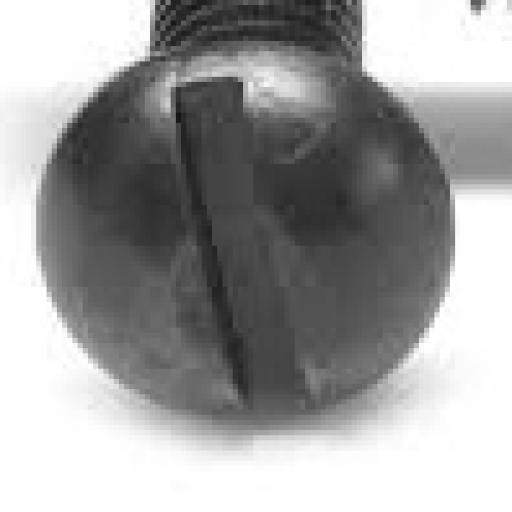Slotted: (24, 26, 448, 433)
